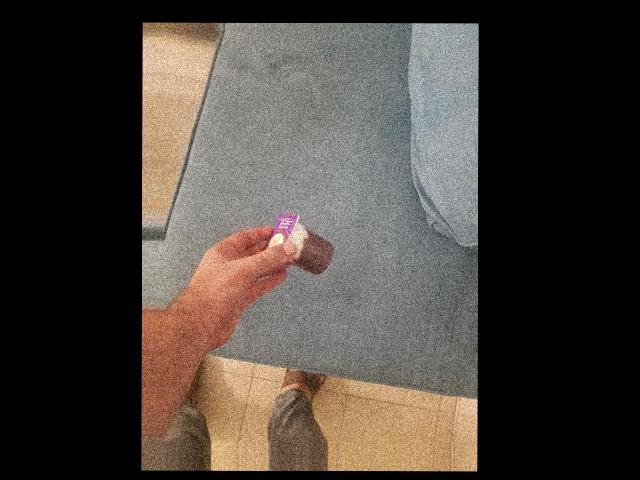milky: (341, 170, 419, 236)
